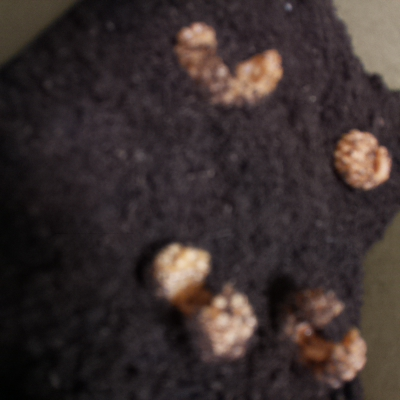eggs: (140, 235, 262, 368), (166, 15, 291, 114), (271, 280, 370, 389), (327, 121, 397, 195)
